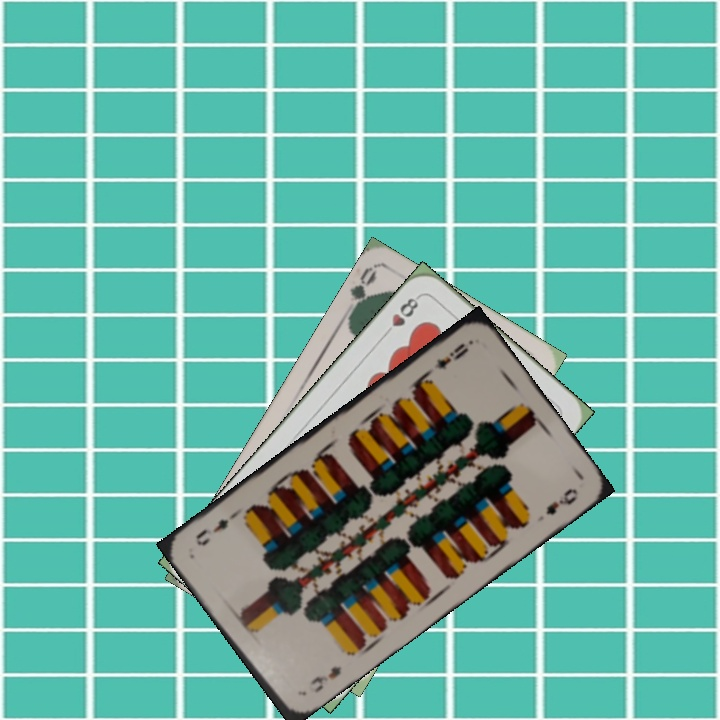E9: (430, 339, 471, 373), (306, 662, 344, 696)
GO: (344, 263, 379, 321)
H8: (379, 291, 423, 340)
